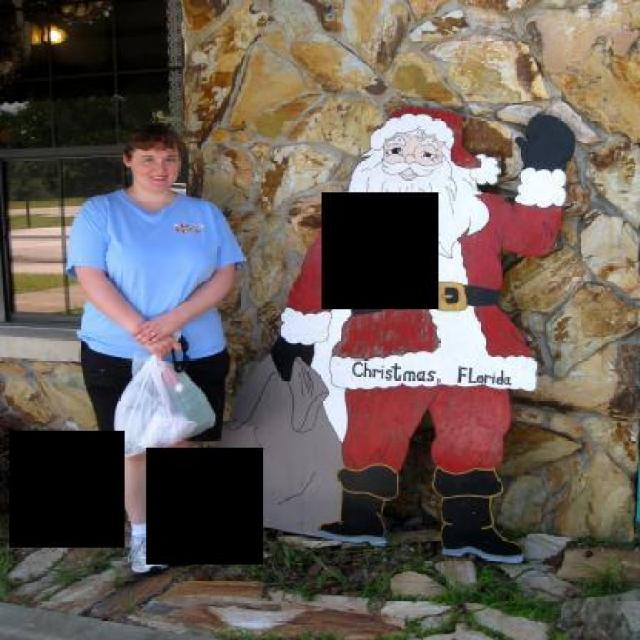plastic bag: (111, 351, 220, 457)
